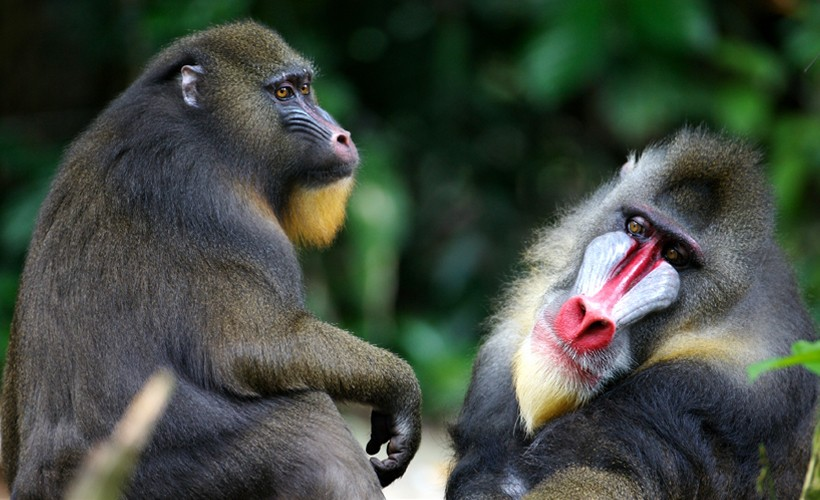Mandrill: (33, 25, 420, 487), (481, 132, 815, 484)
